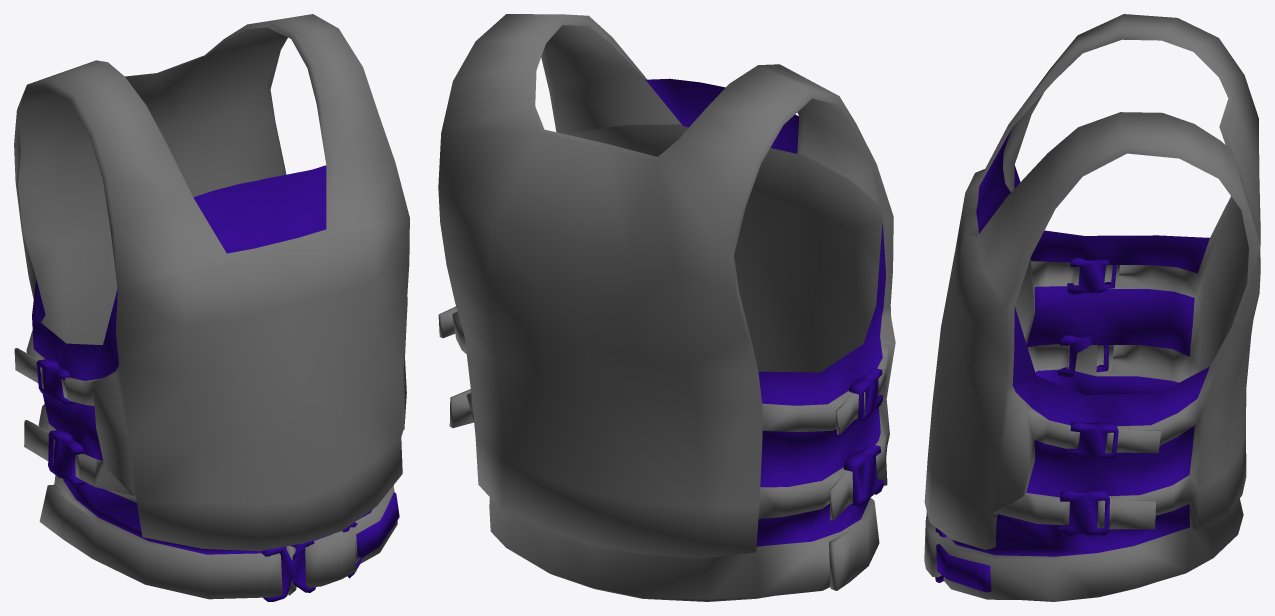
Rendered from Yelek_2.fbx.
The picture shows the model from 3 angles, left to right: view 1: azimuth 30°, elevation 25°; view 2: azimuth 150°, elevation 25°; view 3: azimuth 270°, elevation 25°; orthographic projection. The views are drawn at different scales.
Visible parts, largest first — view 1: Swat Vest.001; view 2: Swat Vest.001; view 3: Swat Vest.001.
Boxes of the visible parts, box(x1,y1,x2,y2) form: Swat Vest.001: box(14, 14, 409, 601); Swat Vest.001: box(438, 14, 895, 601); Swat Vest.001: box(924, 14, 1260, 601).
Size of the model in its own units: 25.64 by 33.33 by 20.85.
